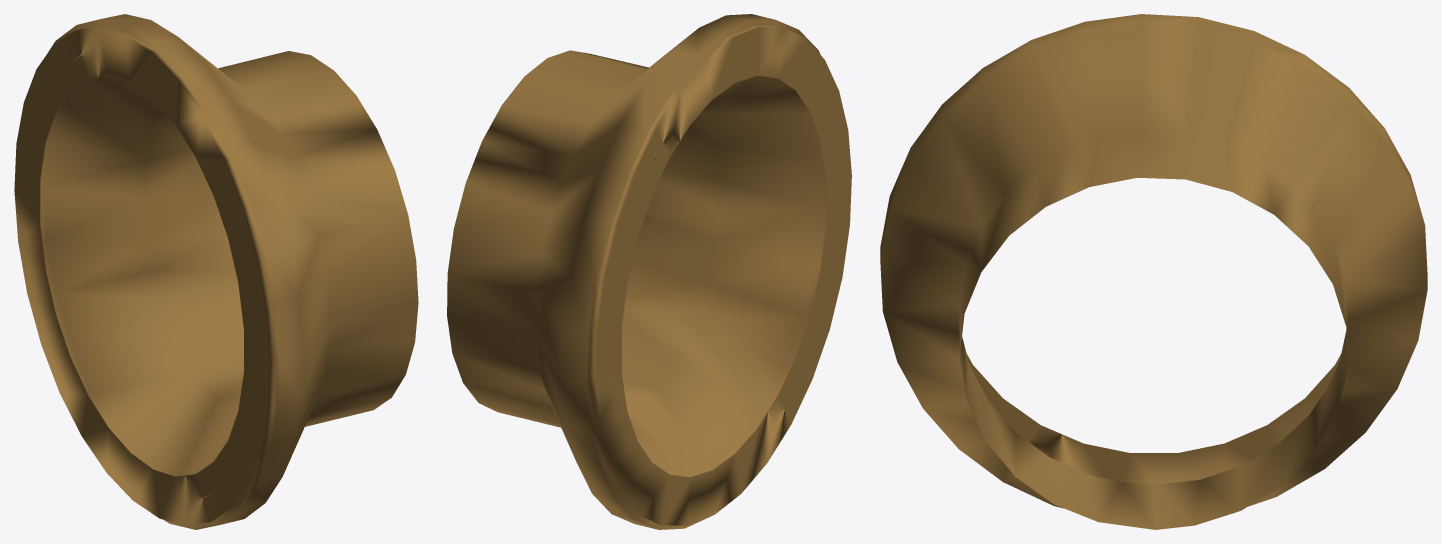
File: anymal_base_0.obj
The picture shows the model from 3 angles, left to right: view 1: azimuth 30°, elevation 25°; view 2: azimuth 150°, elevation 25°; view 3: azimuth 270°, elevation 25°; orthographic projection. The views are drawn at different scales.
Visible parts, largest first — view 1: anymal_base_0; view 2: anymal_base_0; view 3: anymal_base_0.
Part boxes in pixels (<box>): anymal_base_0: <box>14,14,418,529</box>; anymal_base_0: <box>447,14,851,529</box>; anymal_base_0: <box>880,14,1427,529</box>.
Bounding box in the file's own units: 0.0114 × 0.028 × 0.028.
